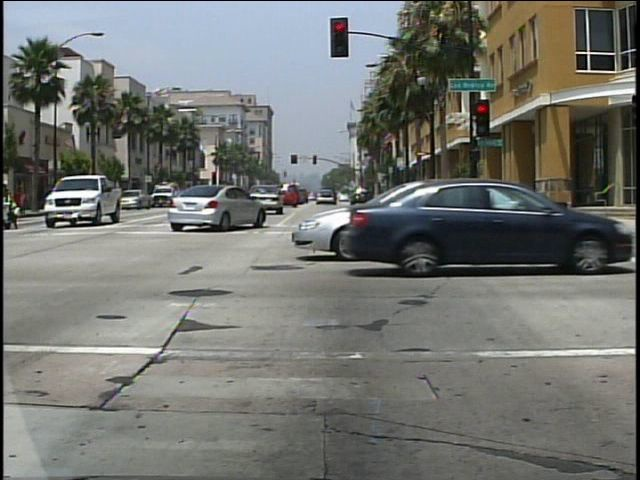person: (2, 178, 25, 231)
